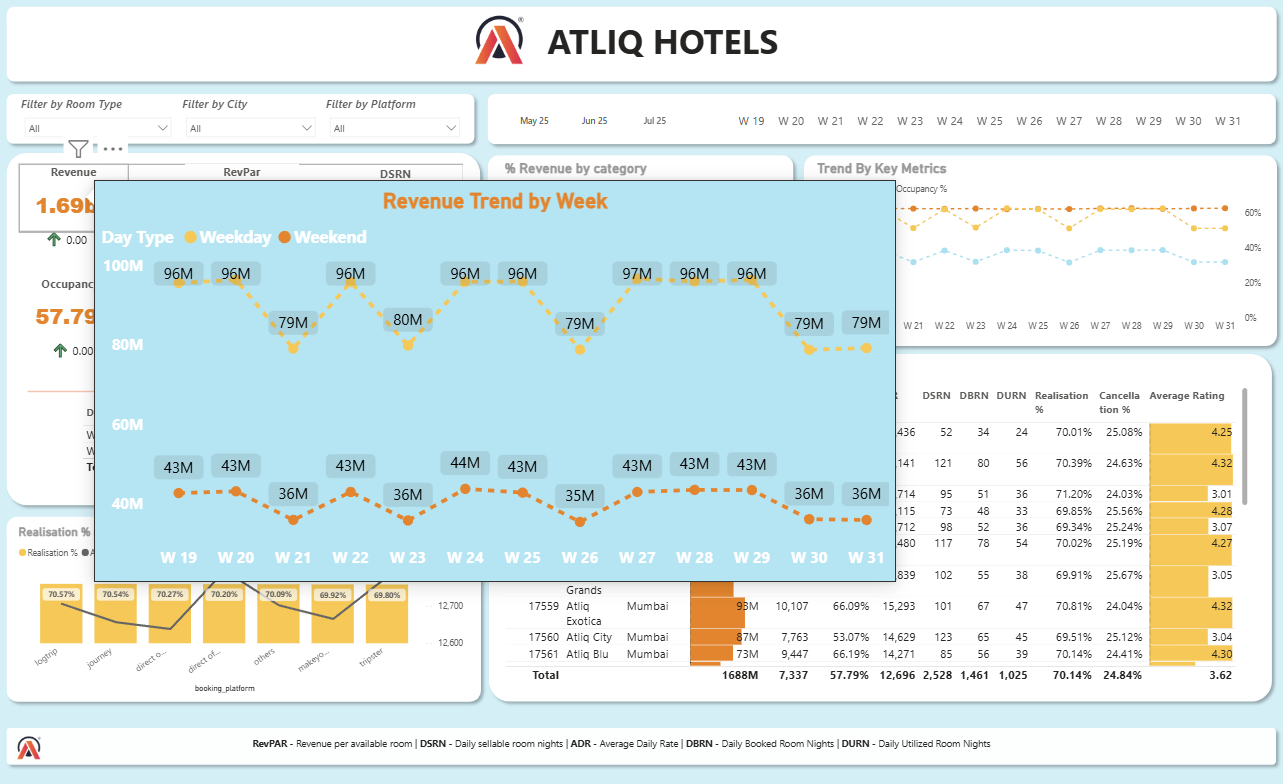

This screenshot's page, from the dashboard's own definition file:
{"tool":"powerbi","page":{"name":"Revenue Tooltip","canvas":[640,320],"ordinal":1},"visuals":[{"type":"lineChart","title":"Revenue Trend by Week","fields":{"Y":["key_measures.Revenue"],"Category":["dim_date.week no"],"Series":["dim_date.day_type"]},"box":[0,0,640,320],"z":0}]}

Visuals, with their boxes on the page's 640x320 design canvas (x1, y1, x2, y2). These are canvas units, not pixel positions in the 1283x784 screenshot, which may show the page scaled, cropped or inside an application window:
"Revenue Trend by Week" lineChart: 0,0,640,320
